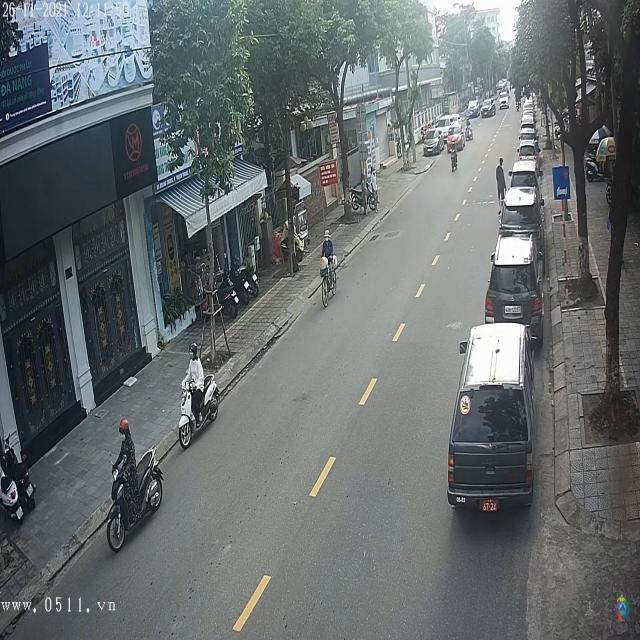car: (449, 321, 535, 508), (485, 234, 543, 334), (503, 181, 540, 231), (516, 144, 536, 162)
motorcycle: (106, 444, 164, 556), (175, 376, 221, 456)
